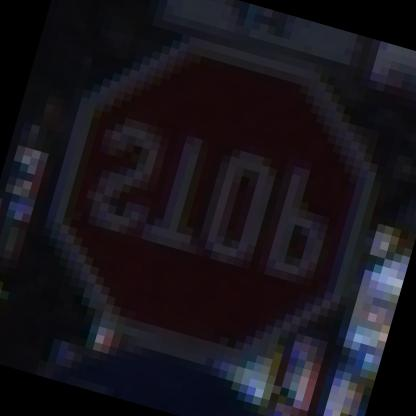stop: (16, 1, 415, 406)
